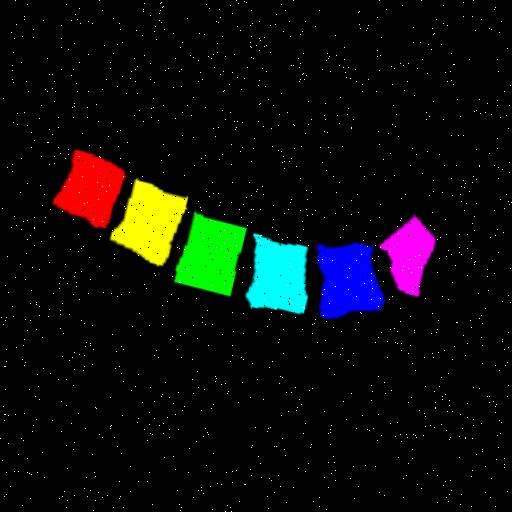L1: (55, 148, 127, 226)
L2: (113, 177, 190, 262)
L3: (177, 211, 249, 292)
L4: (249, 230, 311, 309)
L5: (320, 237, 387, 313)
S1: (383, 210, 438, 291)
